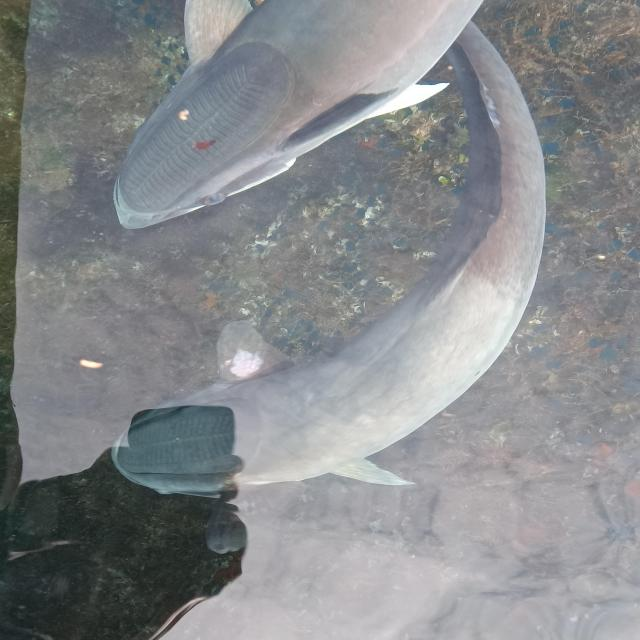ikan: (109, 3, 547, 505), (111, 0, 484, 230)
